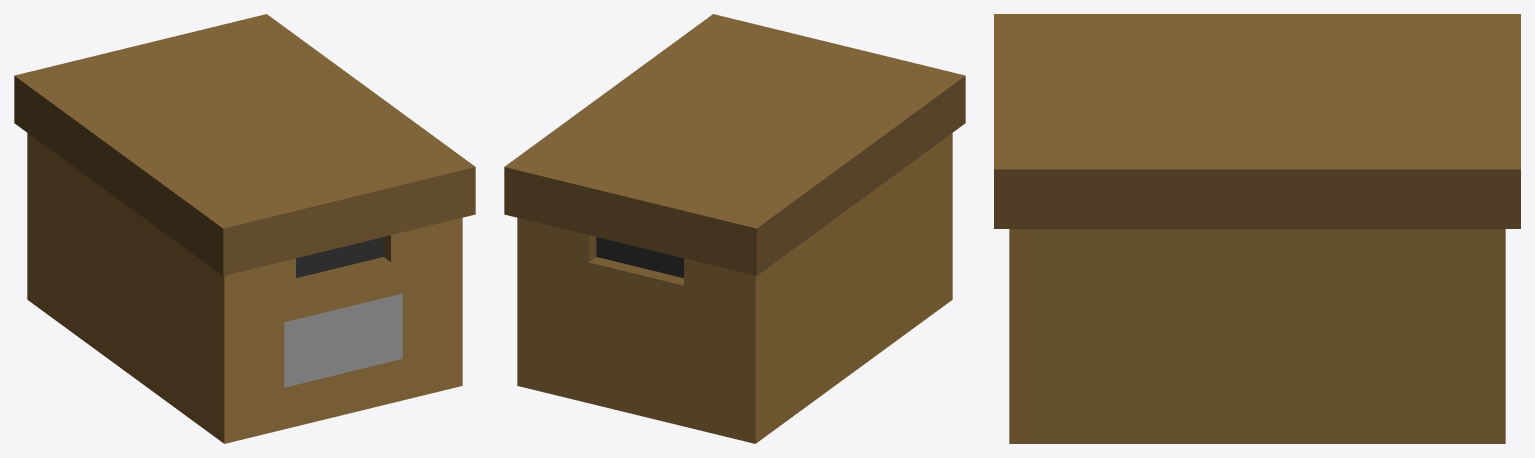
The model's file is SO_FileBox_01.fbx.
The picture shows the model from 3 angles, left to right: view 1: azimuth 30°, elevation 25°; view 2: azimuth 150°, elevation 25°; view 3: azimuth 270°, elevation 25°; orthographic projection. The views are drawn at different scales.
Parts seen in each view (by area): view 1: SO_FileBox_01; view 2: SO_FileBox_01; view 3: SO_FileBox_01.
Boxes of the visible parts, box(x1,y1,x2,y2) form: SO_FileBox_01: box(14, 14, 475, 443); SO_FileBox_01: box(504, 14, 965, 443); SO_FileBox_01: box(994, 14, 1520, 443).
Size of the model in its own units: 0.6635 by 0.5562 by 0.9511.
